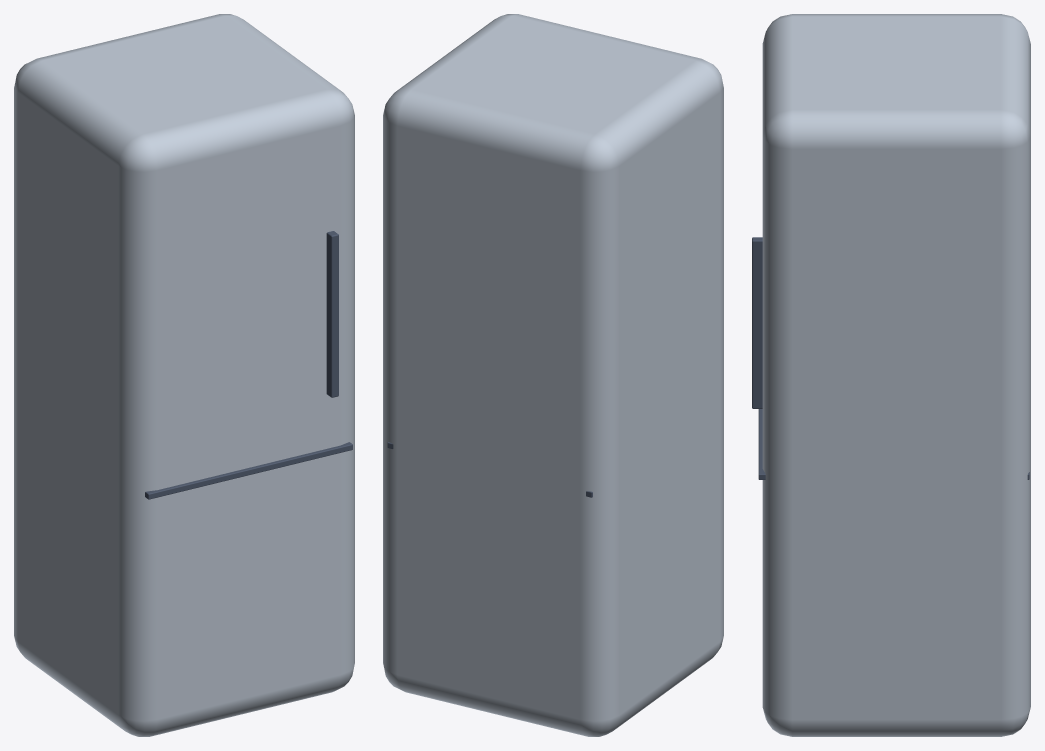
3 views of the same model, side by side, from view 1: azimuth 30°, elevation 25°; view 2: azimuth 150°, elevation 25°; view 3: azimuth 270°, elevation 25° (orthographic). The views are drawn at different scales.
Visible parts, largest first — view 1: fridge; view 2: fridge; view 3: fridge.
Part boxes in pixels (bbox=[...]): fridge: bbox=[14, 14, 354, 736]; fridge: bbox=[383, 14, 723, 736]; fridge: bbox=[752, 14, 1030, 736].
Size of the model in its own units: 0.75 by 1.85 by 0.7483.
